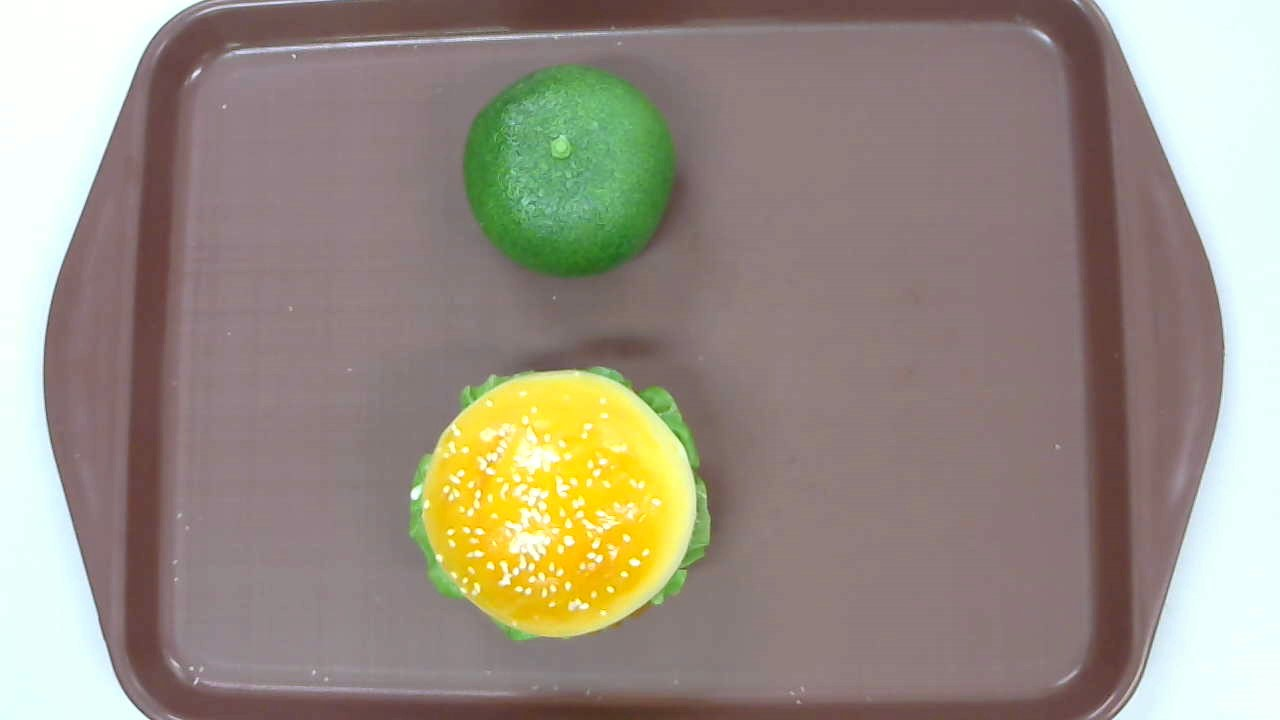green orange: (462, 66, 677, 278)
hamburger: (407, 363, 714, 641)
